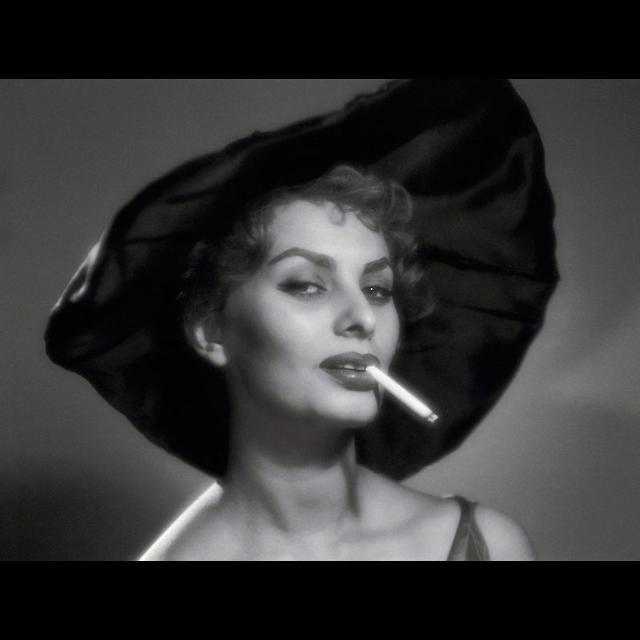rokok: (367, 362, 437, 426)
